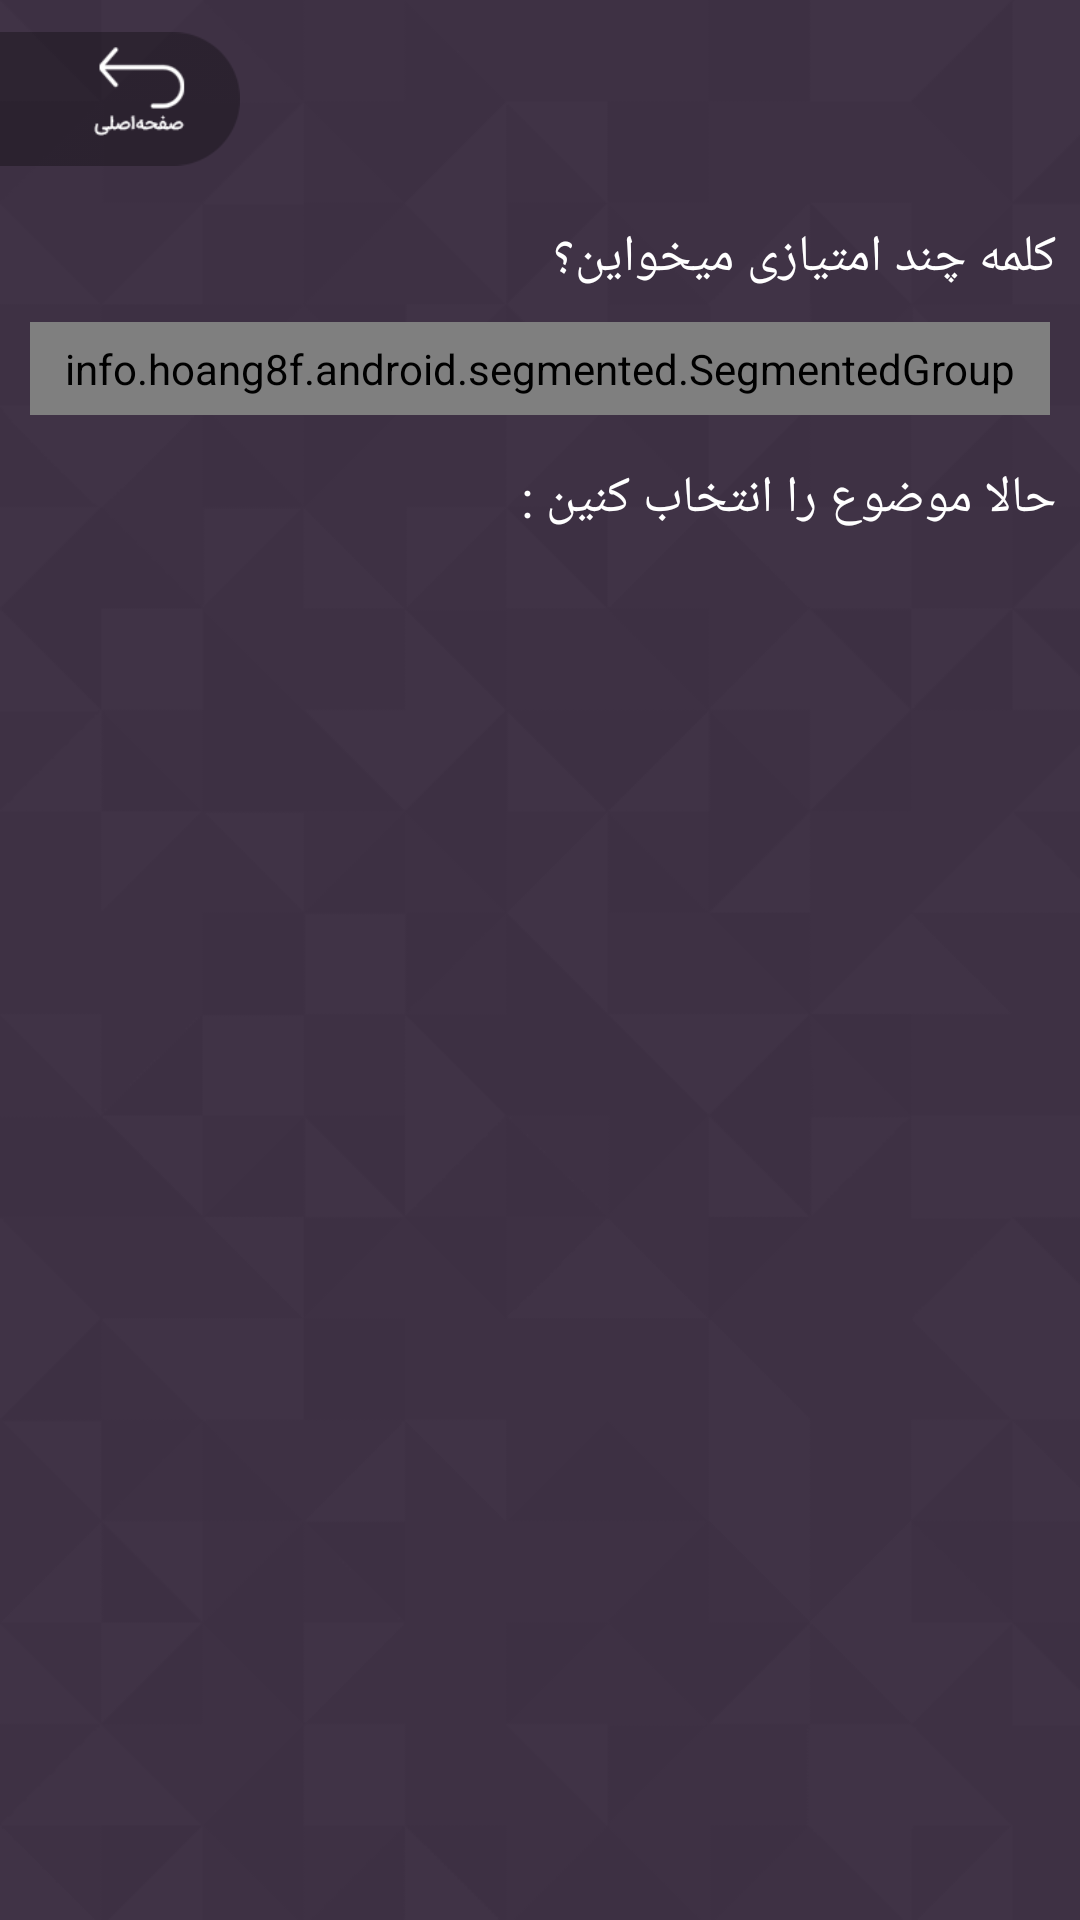

Icon click points for this 1080 × 1920 phone screenshot, format point (x, y):
backtoback: point (120, 99)
